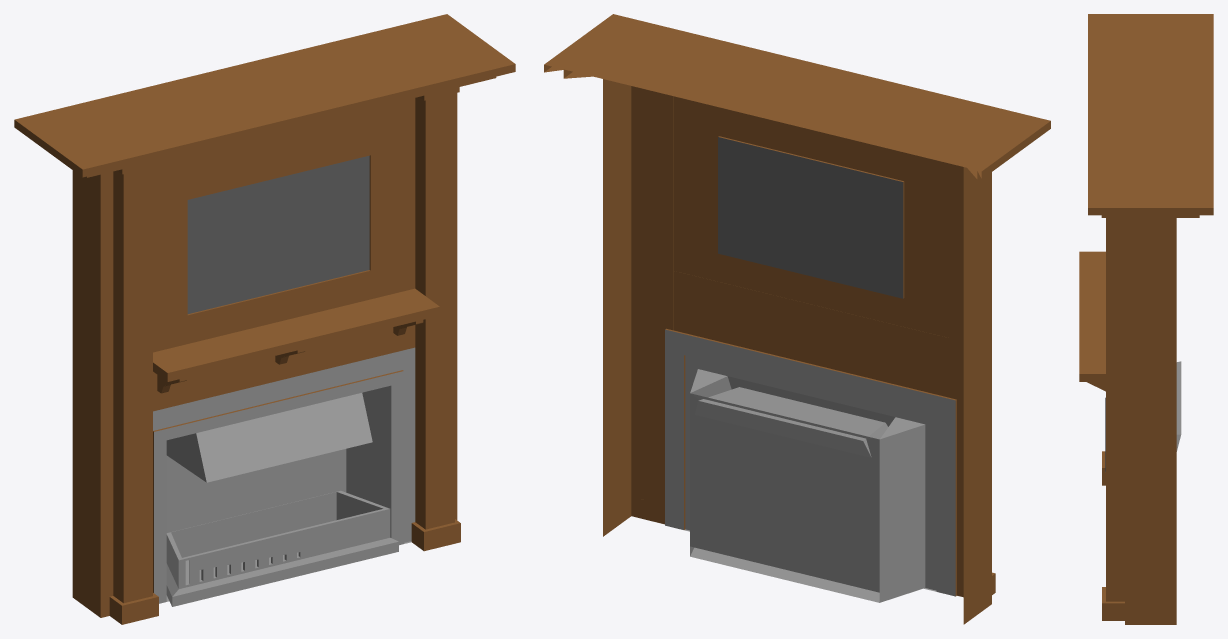
The model's file is Fireplace.fbx.
3 renders of one model, left to right at view 1: azimuth 30°, elevation 25°; view 2: azimuth 150°, elevation 25°; view 3: azimuth 270°, elevation 25°, orthographic. The views are drawn at different scales.
Visible parts, largest first — view 1: Fireplace; view 2: Fireplace; view 3: Fireplace.
Part boxes in pixels (left/top/right/bottom): Fireplace: left=14, top=14, right=515, bottom=624; Fireplace: left=544, top=14, right=1050, bottom=624; Fireplace: left=1079, top=14, right=1213, bottom=624.
Size of the model in its own units: 2.18 by 2.27 by 0.6357.
